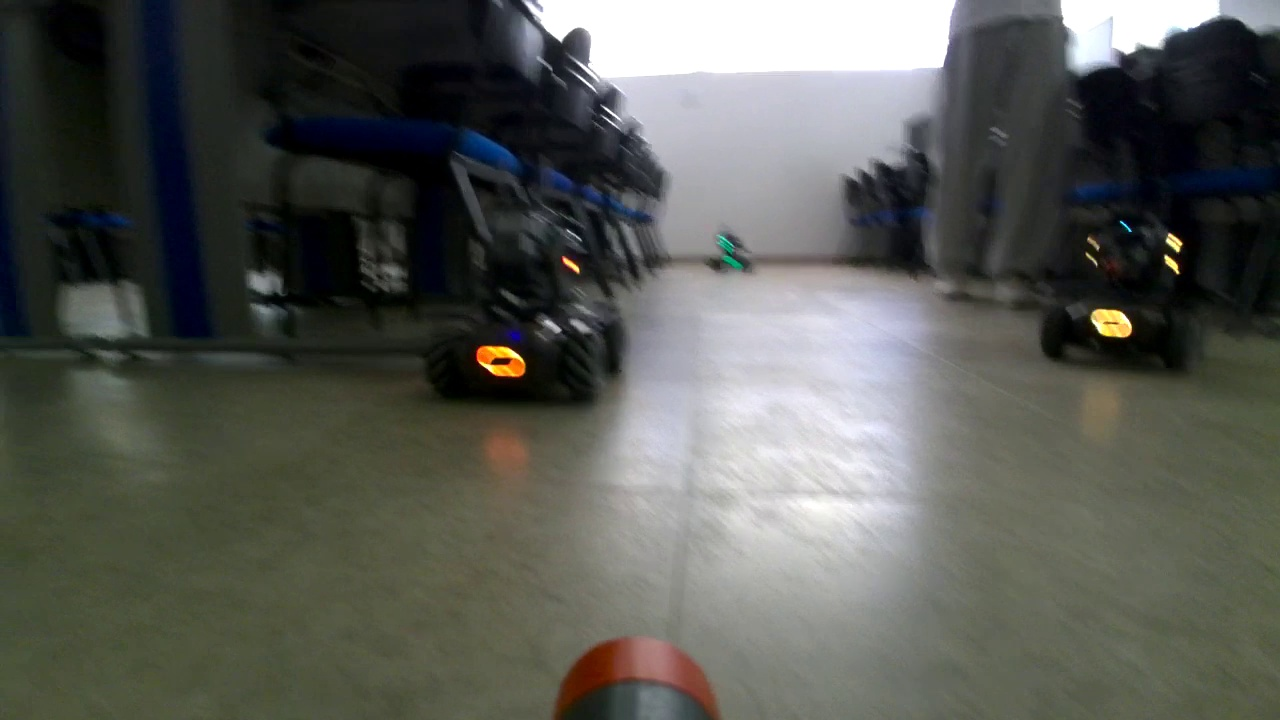robot: (425, 184, 627, 399), (1041, 202, 1204, 369), (701, 225, 755, 277)
